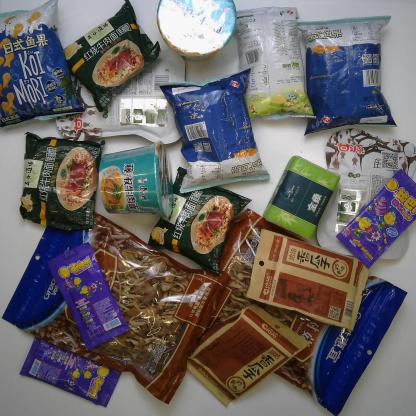Candy: (51, 246, 145, 352), (13, 335, 122, 412), (337, 164, 416, 266)
Dried Food: (187, 203, 411, 412), (6, 209, 232, 403), (184, 297, 308, 404), (251, 232, 368, 328)
Dried Fruit: (51, 44, 186, 142), (323, 127, 415, 267)
Instant Noodles: (148, 165, 251, 273), (13, 127, 108, 235), (60, 12, 166, 106), (98, 138, 184, 222), (155, 0, 237, 58)
Puffed Food: (297, 12, 414, 144), (155, 72, 275, 188), (1, 4, 84, 128), (233, 6, 314, 126)
Tissue: (261, 147, 346, 247)
